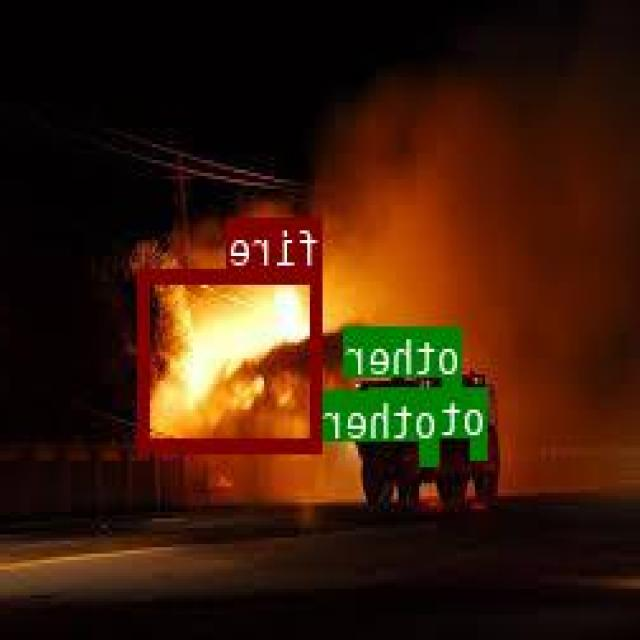fire: (142, 268, 323, 450)
other: (423, 439, 440, 462), (474, 436, 488, 456), (444, 375, 463, 385)
